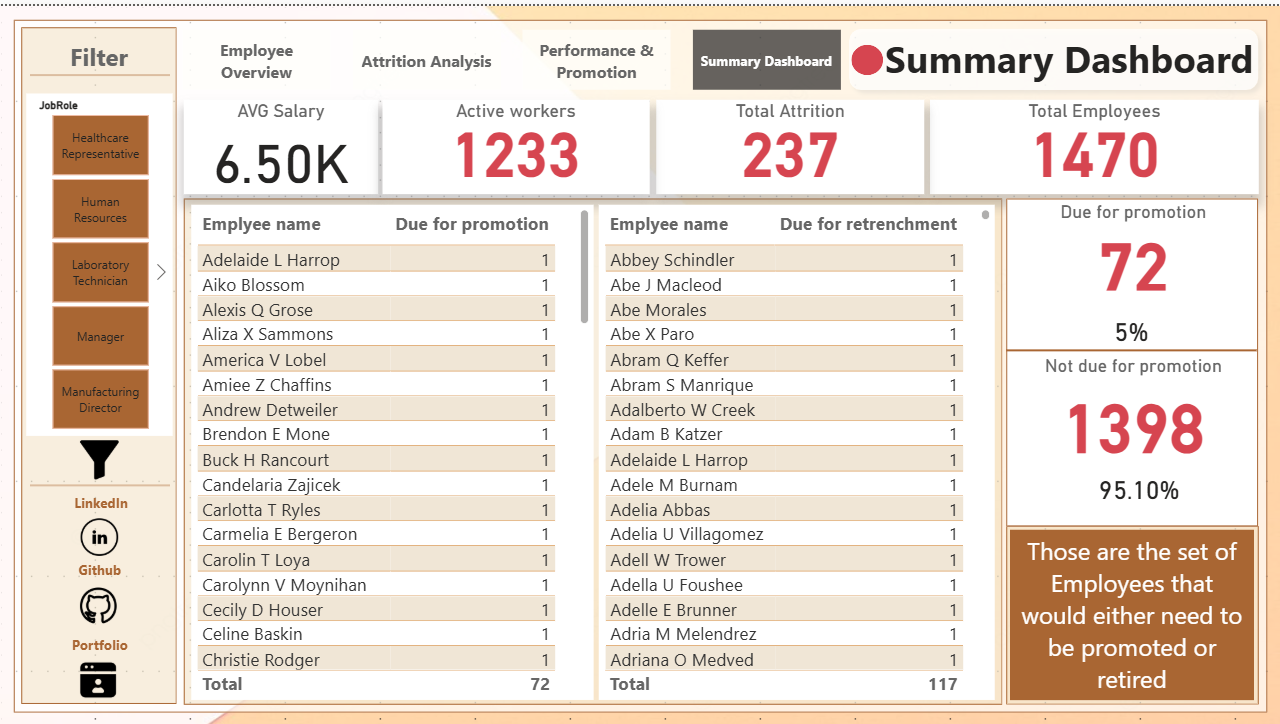

What the dashboard file says about the page in this screenshot:
{"tool":"powerbi","page":{"name":" Summary Dashboard","canvas":[1280,720],"ordinal":3},"visuals":[{"type":"shape","box":[840.3,13.9,427.1,79.3],"z":0},{"type":"shape","box":[13.9,13.9,1253.6,692.9],"z":1000},{"type":"shape","box":[21.1,21.1,155.5,676.7],"z":2000},{"type":"shape","box":[1006.2,520,252.5,178.8],"z":3000},{"type":"shape","box":[183.8,192.5,818.8,506.2],"z":4000},{"type":"shape","box":[851.5,39,32,30.6],"z":5000},{"type":"shape","box":[30.2,61.6,140.1,15.7],"z":6000},{"type":"card","title":" AVG Salary","fields":{"Values":["Measure.Average Salary"]},"box":[183.3,93.5,194.5,94.8],"z":7000},{"type":"textbox","box":[868.2,22.3,391,62.6],"z":8000},{"type":"pageNavigator","box":[182.9,23.6,658.1,61],"z":9000},{"type":"card","title":"Total Employees","fields":{"Values":["Table.Total Employees"]},"box":[930.1,93.5,329.1,94.8],"z":10000},{"type":"card","title":"Total Attrition","fields":{"Values":["Measure.Attrition by Department"]},"box":[655.8,93.5,268.1,94.8],"z":11000},{"type":"shape","box":[1006.1,192,251.8,327.9],"z":12000},{"type":"card","fields":{"Values":["Measure.Promotable %"]},"box":[1099.6,304.2,62.3,42.4],"z":13000},{"type":"card","title":"Not due for promotion","fields":{"Values":["Measure.Not Due"]},"box":[1018.6,349.1,229.4,108.5],"z":14000},{"type":"card","title":"Due for promotion","fields":{"Values":["Measure.Total Promotable"]},"box":[1018.6,194.5,229.4,94.8],"z":15000},{"type":"shape","box":[1006.1,340.4,250.6,8.7],"z":16000},{"type":"card","fields":{"Values":["Measure.% Not due for promotion"]},"box":[1088.4,458.8,101,49.9],"z":17000},{"type":"card","title":"Active workers","fields":{"Values":["Measure.Active workers"]},"box":[382.8,93.5,266.8,94.8],"z":18000},{"type":"tableEx","fields":{"Values":["employee data.Emplyee name","Measure.Total Promotable"]},"box":[191.2,198.8,402.5,495],"z":19000},{"type":"tableEx","fields":{"Values":["employee data.Emplyee name","Measure.Due for retrenchment"]},"box":[598.8,198.8,396.2,495],"z":20000},{"type":"textbox","box":[1010,523.8,243.8,170],"z":21000},{"type":"textbox","box":[33.6,29.9,130.6,51],"z":22000},{"type":"slicer","fields":{"Values":["HR Analytics Data.JobRole"]},"box":[26.2,87.5,146.2,342.5],"z":23000},{"type":"image","box":[75,426.2,48.8,55],"z":24000},{"type":"textbox","box":[56.2,482.5,90,30],"z":25000},{"type":"textbox","box":[55,550,90,30],"z":26000},{"type":"textbox","box":[55,625,90,30],"z":27000},{"type":"shape","box":[30,471.2,140,16.2],"z":28000},{"type":"image","box":[75,507.5,48.8,47.5],"z":29000},{"type":"image","box":[68.8,576.2,58.8,46.2],"z":30000},{"type":"image","box":[75,650,46.2,48.8],"z":31000}]}

Visuals, with their boxes in screenshot pixels (x1, y1, x2, y2), scaled from the page's 1280x720 canvas onto the 1280x724 screenshot:
shape: rect(840, 14, 1267, 94)
shape: rect(14, 14, 1268, 711)
shape: rect(21, 21, 177, 702)
shape: rect(1006, 523, 1259, 703)
shape: rect(184, 194, 1003, 703)
shape: rect(852, 39, 884, 70)
shape: rect(30, 62, 170, 78)
" AVG Salary" card: rect(183, 94, 378, 189)
textbox: rect(868, 22, 1259, 85)
pageNavigator: rect(183, 24, 841, 85)
"Total Employees" card: rect(930, 94, 1259, 189)
"Total Attrition" card: rect(656, 94, 924, 189)
shape: rect(1006, 193, 1258, 523)
card - Measure.Promotable %: rect(1100, 306, 1162, 349)
"Not due for promotion" card: rect(1019, 351, 1248, 460)
"Due for promotion" card: rect(1019, 196, 1248, 291)
shape: rect(1006, 342, 1257, 351)
card - Measure.% Not due for promotion: rect(1088, 461, 1189, 512)
"Active workers" card: rect(383, 94, 650, 189)
tableEx - employee data.Emplyee name x Measure.Total Promotable: rect(191, 200, 594, 698)
tableEx - employee data.Emplyee name x Measure.Due for retrenchment: rect(599, 200, 995, 698)
textbox: rect(1010, 527, 1254, 698)
textbox: rect(34, 30, 164, 81)
slicer - HR Analytics Data.JobRole: rect(26, 88, 172, 432)
image: rect(75, 429, 124, 484)
textbox: rect(56, 485, 146, 515)
textbox: rect(55, 553, 145, 583)
textbox: rect(55, 628, 145, 659)
shape: rect(30, 474, 170, 490)
image: rect(75, 510, 124, 558)
image: rect(69, 579, 128, 626)
image: rect(75, 654, 121, 703)
